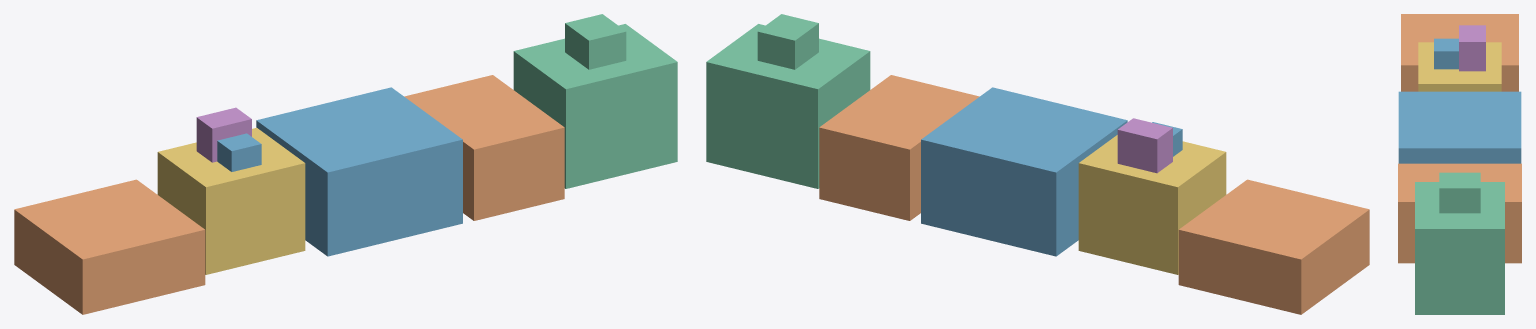
Rendered from layout.glb.
3 views of the same model, side by side, from view 1: azimuth 30°, elevation 25°; view 2: azimuth 150°, elevation 25°; view 3: azimuth 270°, elevation 25° (orthographic). The views are drawn at different scales.
Visible parts, largest first — view 1: base_3, base_4, base_1, base_0, base_2, item_1, item_0, item_2; view 2: base_3, base_4, base_1, base_2, base_0, item_1, item_0; view 3: base_1, base_3, base_2, base_4, base_0, item_1, item_0, item_2.
Part boxes in pixels (x1=…): base_3: x1=256, y1=87, x2=462, y2=256; base_4: x1=14, y1=179, x2=205, y2=314; base_1: x1=513, y1=24, x2=677, y2=188; base_0: x1=157, y1=127, x2=305, y2=274; base_2: x1=404, y1=75, x2=564, y2=220; item_1: x1=565, y1=14, x2=626, y2=69; item_0: x1=196, y1=107, x2=251, y2=162; item_2: x1=217, y1=133, x2=261, y2=171; base_3: x1=921, y1=87, x2=1127, y2=256; base_4: x1=1178, y1=179, x2=1369, y2=314; base_1: x1=706, y1=24, x2=870, y2=188; base_2: x1=819, y1=75, x2=979, y2=220; base_0: x1=1078, y1=135, x2=1226, y2=274; item_1: x1=757, y1=14, x2=818, y2=69; item_0: x1=1117, y1=118, x2=1172, y2=173; base_1: x1=1415, y1=182, x2=1504, y2=314; base_3: x1=1398, y1=91, x2=1521, y2=163; base_2: x1=1398, y1=163, x2=1521, y2=263; base_4: x1=1401, y1=14, x2=1518, y2=91; base_0: x1=1418, y1=42, x2=1501, y2=91; item_1: x1=1439, y1=172, x2=1480, y2=213; item_0: x1=1459, y1=25, x2=1485, y2=71; item_2: x1=1434, y1=38, x2=1458, y2=69.
Size of the model in its own units: 6.64 by 1.36 by 1.37.
